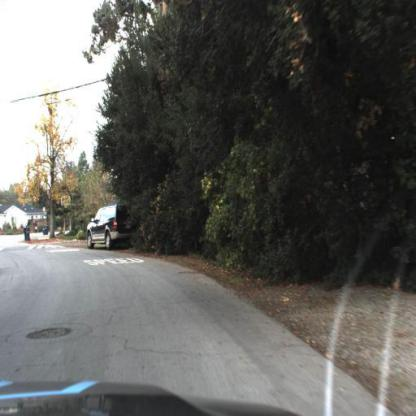car: (81, 201, 137, 259)
